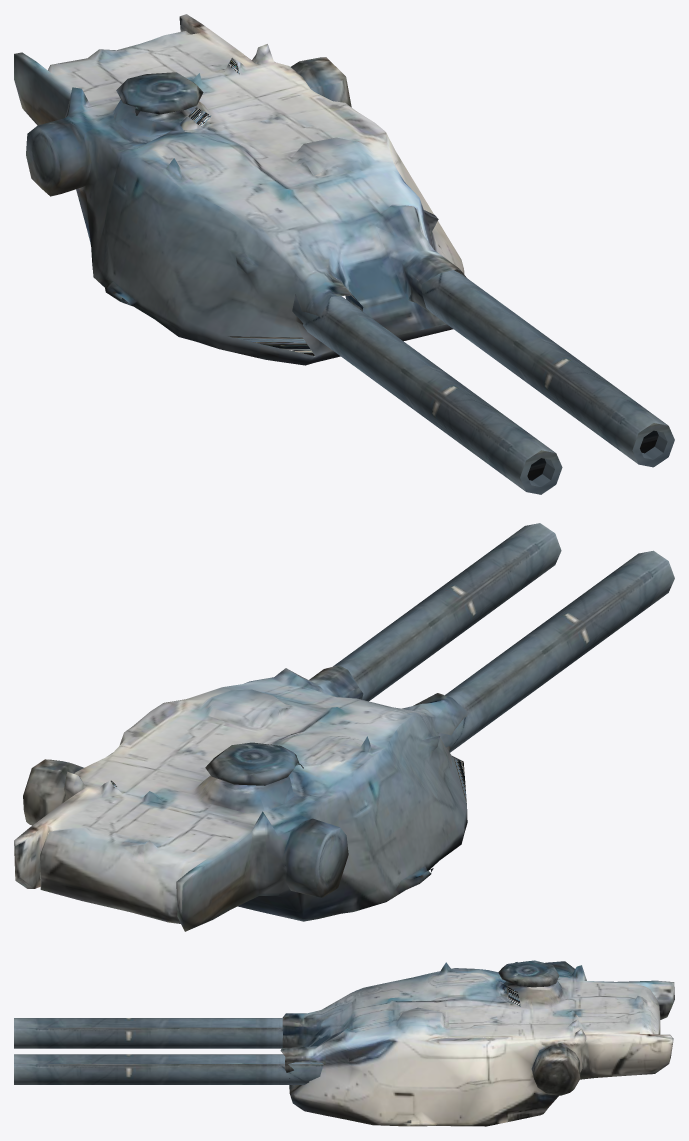
File: tank_01_t.dae
The picture shows the model from 3 angles, top to bottom: view 1: azimuth 30°, elevation 25°; view 2: azimuth 150°, elevation 25°; view 3: azimuth 270°, elevation 25°; orthographic projection. The views are drawn at different scales.
Parts seen in each view (by area): view 1: tank_01_t; view 2: tank_01_t; view 3: tank_01_t.
Boxes of the visible parts, left/top/right/bottom form: tank_01_t: left=14, top=14, right=674, bottom=494; tank_01_t: left=14, top=523, right=674, bottom=931; tank_01_t: left=14, top=960, right=674, bottom=1126.
Bounding box in the file's own units: 6 × 16.97 × 2.99.
